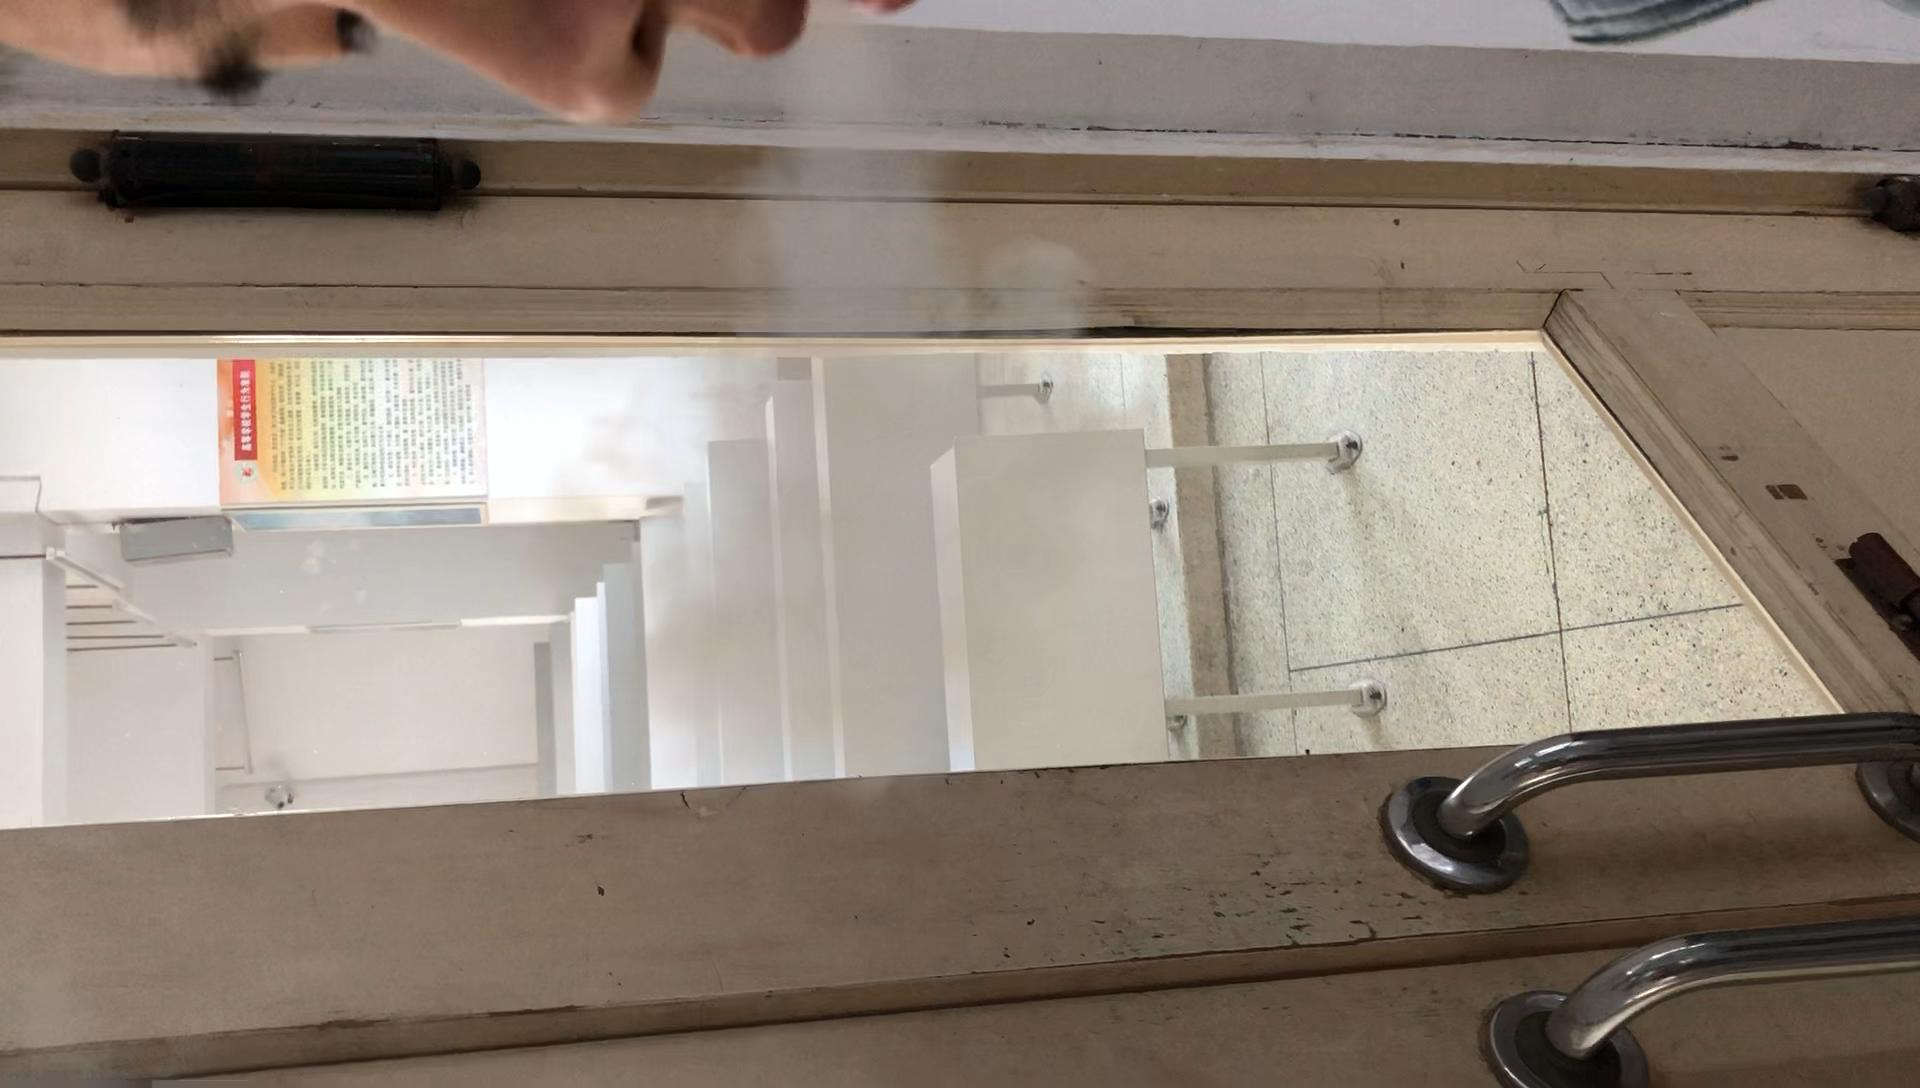smoke: (534, 38, 1116, 757)
